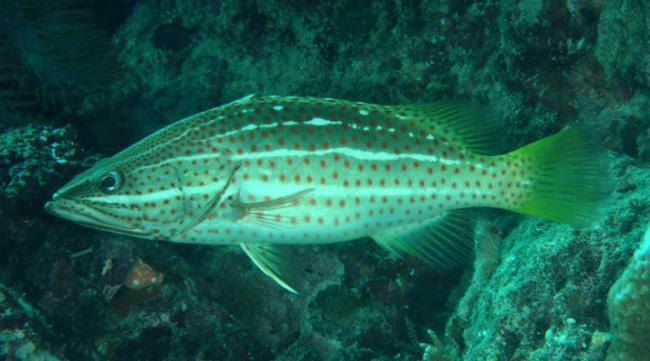fish: (39, 93, 608, 293)
